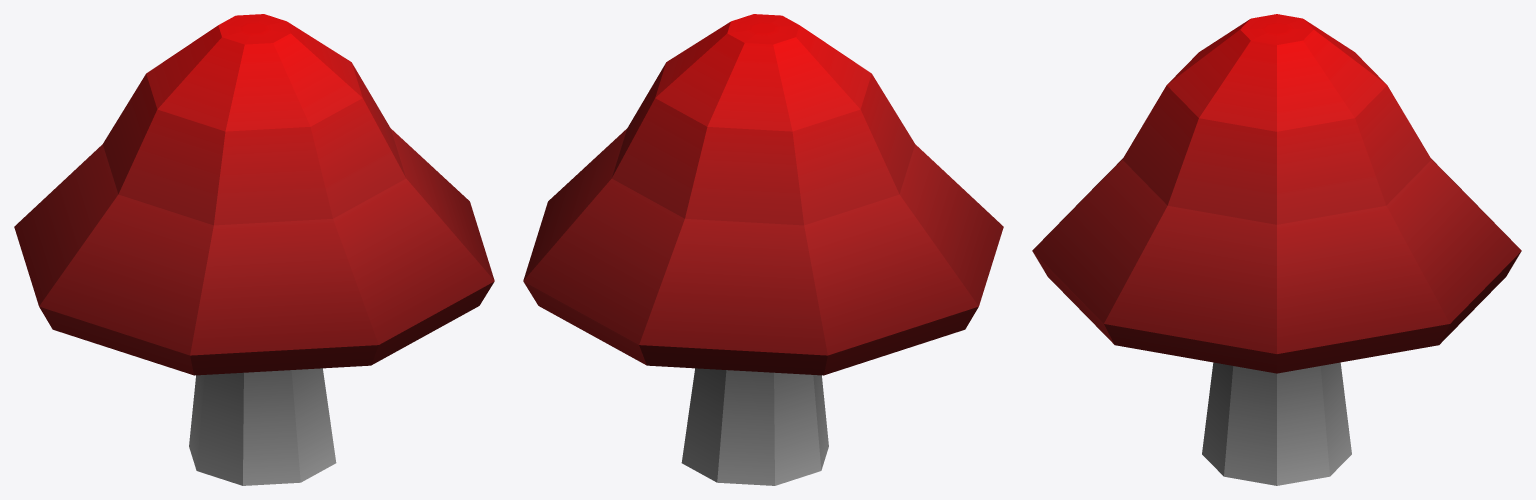
Rendered from MushroomSmallRed.FBX.
The picture shows the model from 3 angles, left to right: view 1: azimuth 30°, elevation 25°; view 2: azimuth 150°, elevation 25°; view 3: azimuth 270°, elevation 25°; orthographic projection.
Parts seen in each view (by area): view 1: Cylinder008; view 2: Cylinder008; view 3: Cylinder008.
Part boxes in pixels (x1,y1,x2,y2): Cylinder008: [14, 14, 494, 485]; Cylinder008: [523, 14, 1003, 485]; Cylinder008: [1032, 14, 1521, 485].
Size of the model in its own units: 39.22 by 37.26 by 39.22.
